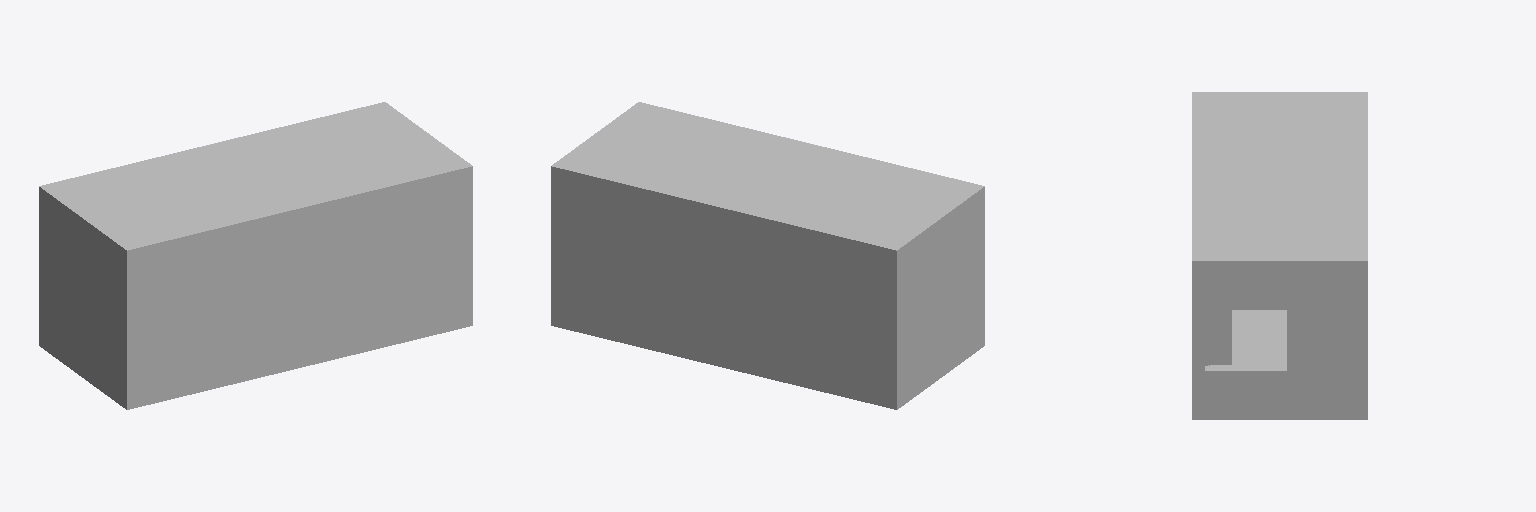
The model's file is enclosure_imu_board.obj.
3 views of the same model, side by side, from view 1: azimuth 30°, elevation 25°; view 2: azimuth 150°, elevation 25°; view 3: azimuth 270°, elevation 25° (orthographic).
Visible parts, largest first — view 1: Object.1; view 2: Object.1; view 3: Object.1.
Boxes of the visible parts, x1=… form: Object.1: x1=39, y1=102, x2=472, y2=409; Object.1: x1=551, y1=102, x2=984, y2=409; Object.1: x1=1192, y1=92, x2=1367, y2=419.
Bounding box in the file's own units: 59 × 25.99 × 25.98.